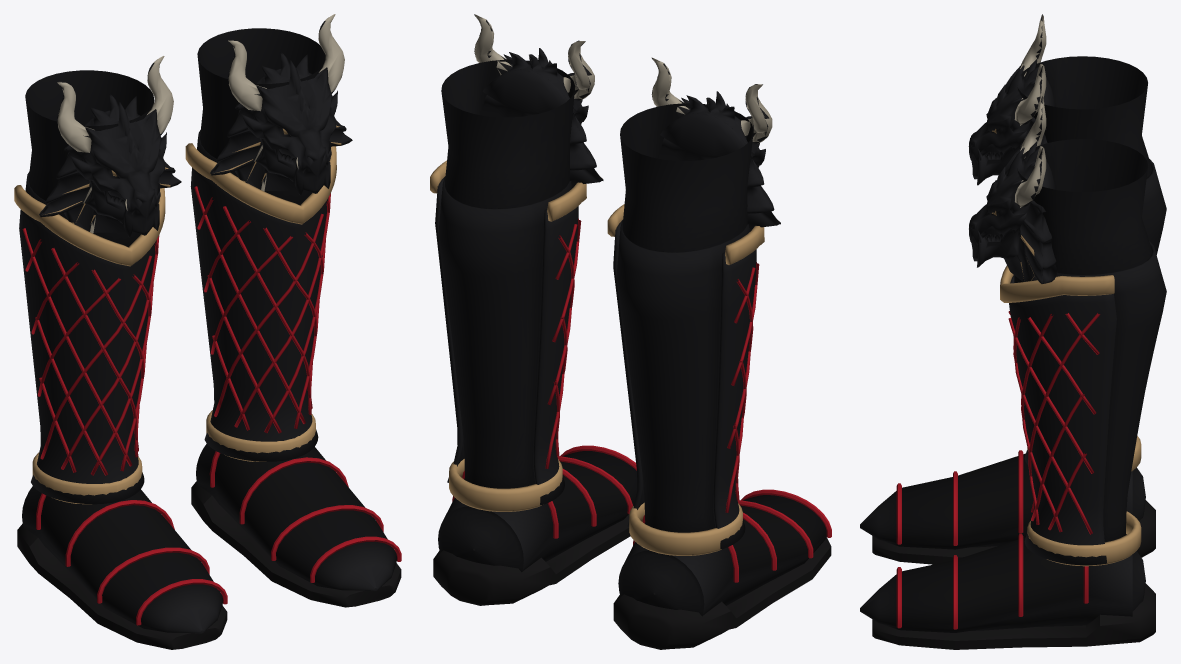
The model's file is f_dragonknight_dark_f.glb.
The picture shows the model from 3 angles, left to right: view 1: azimuth 30°, elevation 25°; view 2: azimuth 150°, elevation 25°; view 3: azimuth 270°, elevation 25°; orthographic projection. The views are drawn at different scales.
Visible parts, largest first — view 1: LegR_Boot, LegL_Boot, LegR_BootFoot, LegL_BootFoot; view 2: LegR_Boot, LegL_Boot, LegR_BootFoot, LegL_BootFoot; view 3: LegL_Boot, LegL_BootFoot, LegR_Boot, LegR_BootFoot.
Boxes of the visible parts, x1=… form: LegR_Boot: x1=14, y1=56, x2=181, y2=504; LegL_Boot: x1=185, y1=14, x2=352, y2=461; LegR_BootFoot: x1=17, y1=486, x2=227, y2=649; LegL_BootFoot: x1=191, y1=444, x2=401, y2=607; LegR_Boot: x1=607, y1=57, x2=780, y2=555; LegL_Boot: x1=430, y1=14, x2=603, y2=511; LegR_BootFoot: x1=613, y1=489, x2=831, y2=649; LegL_BootFoot: x1=433, y1=445, x2=637, y2=605; LegL_Boot: x1=969, y1=96, x2=1166, y2=566; LegL_BootFoot: x1=860, y1=533, x2=1155, y2=649; LegR_Boot: x1=968, y1=14, x2=1166, y2=471; LegR_BootFoot: x1=860, y1=450, x2=1155, y2=564.
Size of the model in its own units: 0.3852 by 0.6057 by 0.3324.
